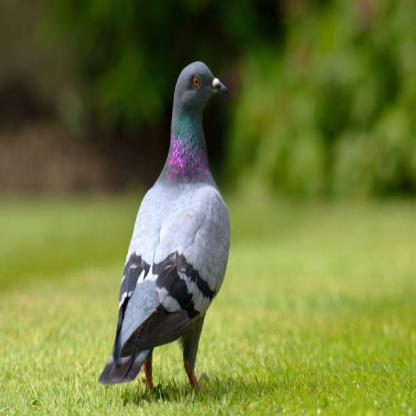Rock Pigeon: (90, 54, 232, 389)
